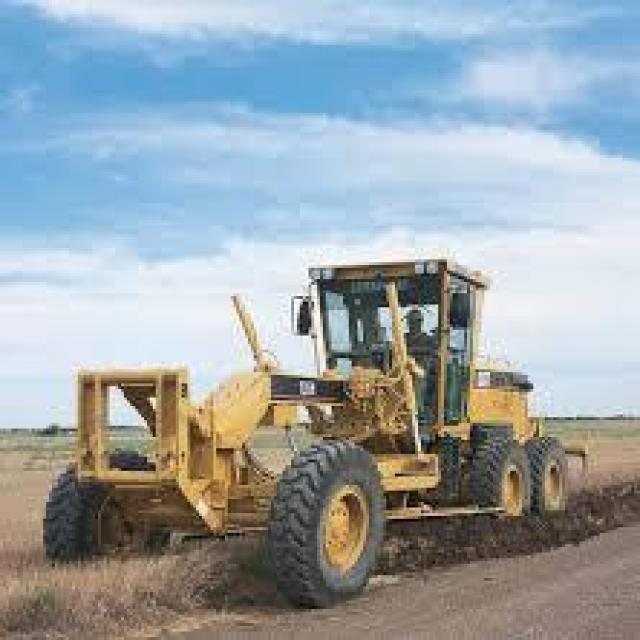Grader: (23, 237, 620, 612)
